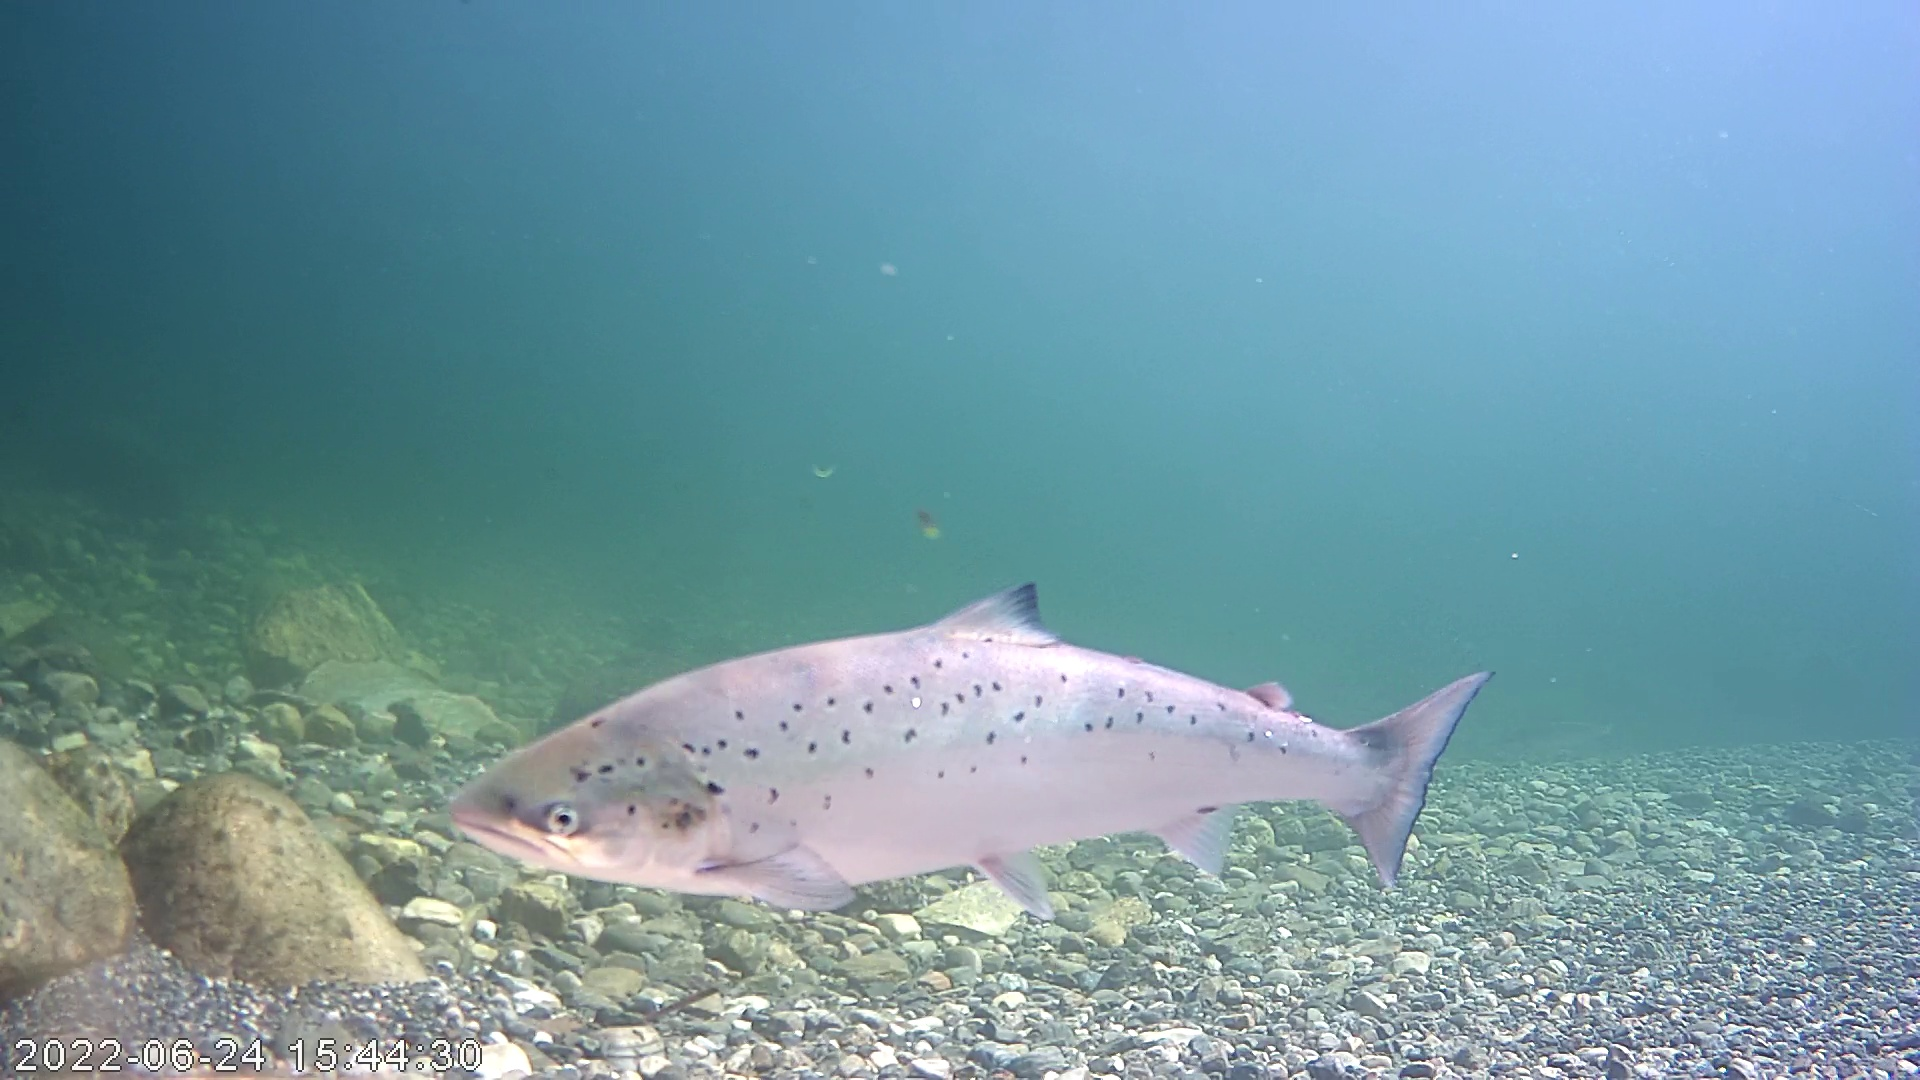salmon: (446, 582, 1497, 924)
